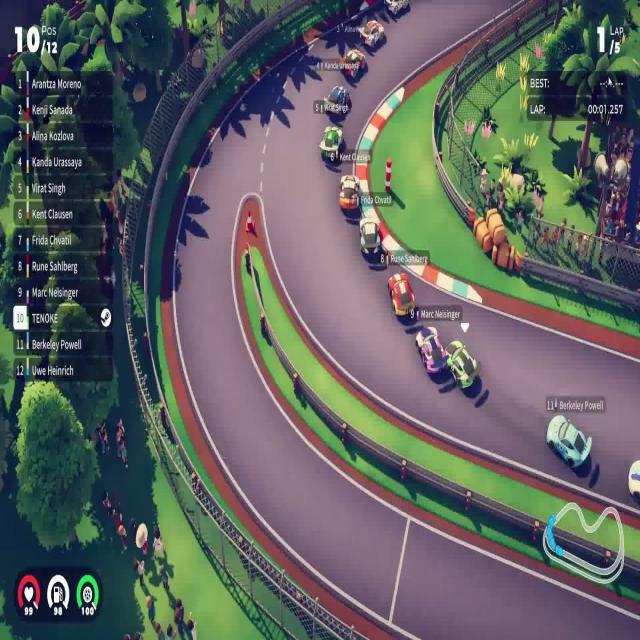car: (545, 413, 592, 471), (415, 325, 448, 377), (445, 340, 478, 391), (358, 214, 387, 268), (386, 271, 416, 323), (318, 124, 345, 164), (338, 173, 360, 213), (323, 84, 351, 115), (339, 48, 366, 80), (359, 18, 385, 50)
